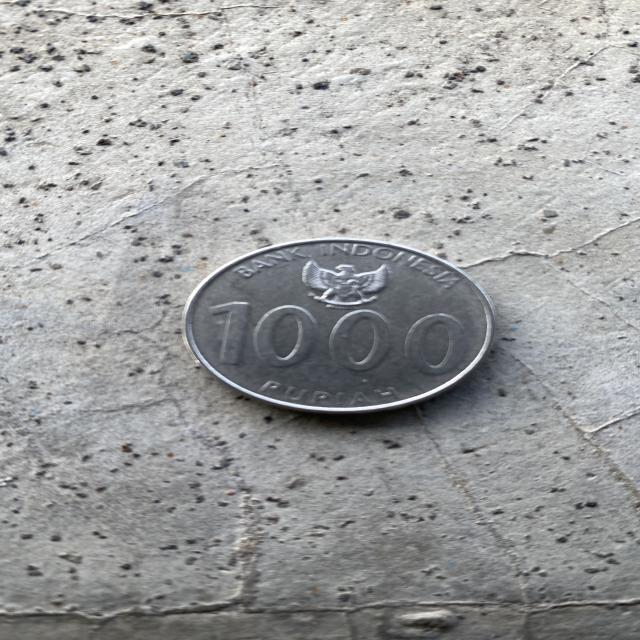1000-angklung: (165, 222, 515, 427)
